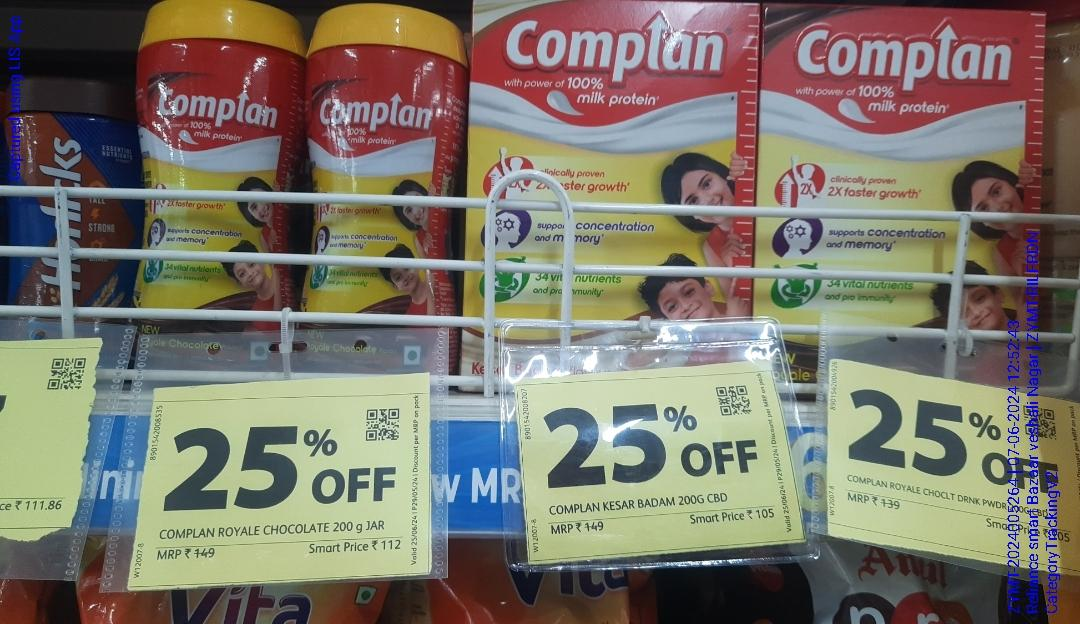COMPLAN_CHOCOLATE_500_GMS_JAR: (120, 0, 284, 361), (305, 5, 470, 361)
COMPLAN_KESAR_BADAM_500_GMS_PACK: (477, 0, 760, 376)
